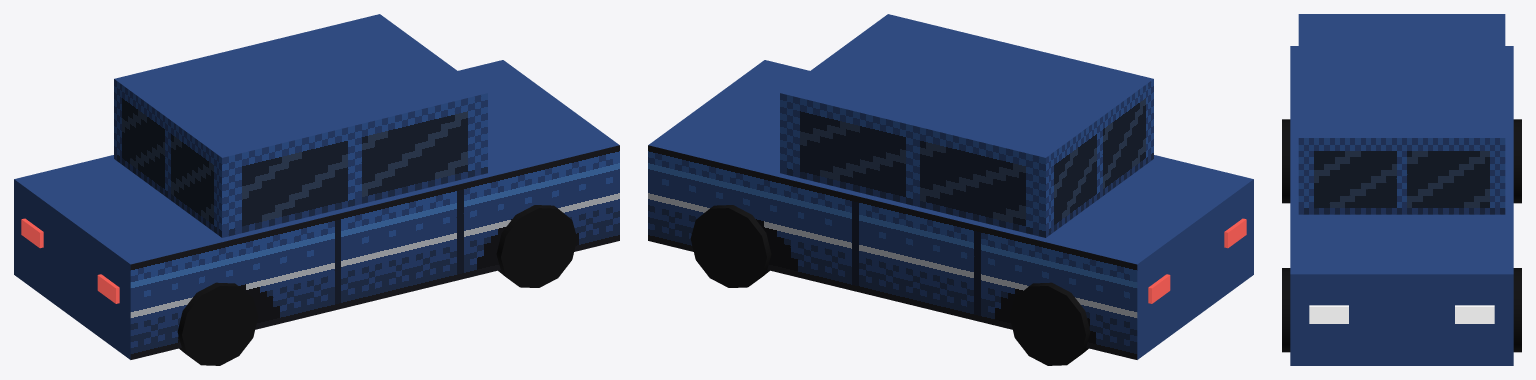
File: Auto_4.glb
The picture shows the model from 3 angles, left to right: view 1: azimuth 30°, elevation 25°; view 2: azimuth 150°, elevation 25°; view 3: azimuth 270°, elevation 25°; orthographic projection. The views are drawn at different scales.
Parts seen in each view (by area): view 1: Auto_4; view 2: Auto_4; view 3: Auto_4.
Part boxes in pixels (left/top/right/bottom): Auto_4: left=14, top=14, right=619, bottom=365; Auto_4: left=648, top=14, right=1253, bottom=365; Auto_4: left=1282, top=14, right=1521, bottom=365.
Size of the model in its own units: 4.67 by 1.79 by 2.04.
6 materials, 2 textured.
